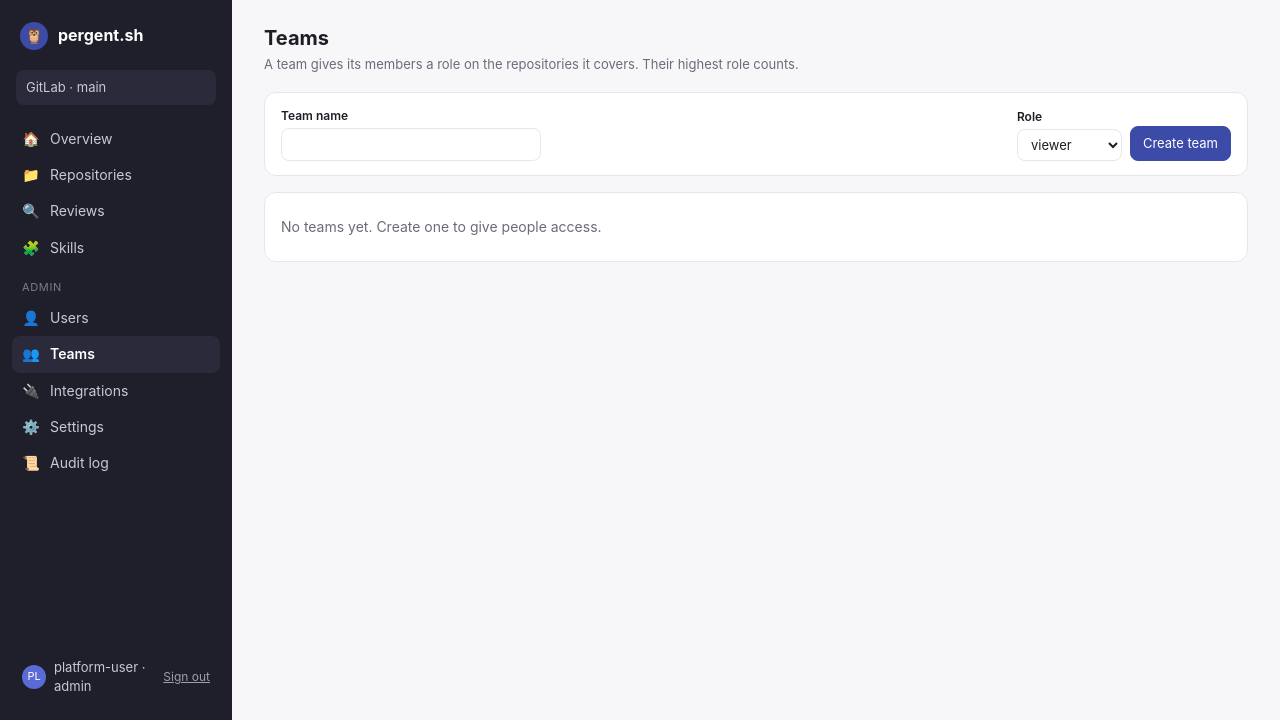
Scenario: Teams › shows the server's text when the name is taken
This screenshot has width=1280, height=720.
In the field labelled "Team name": (411, 145) [281,128,541,161], type "Payments"
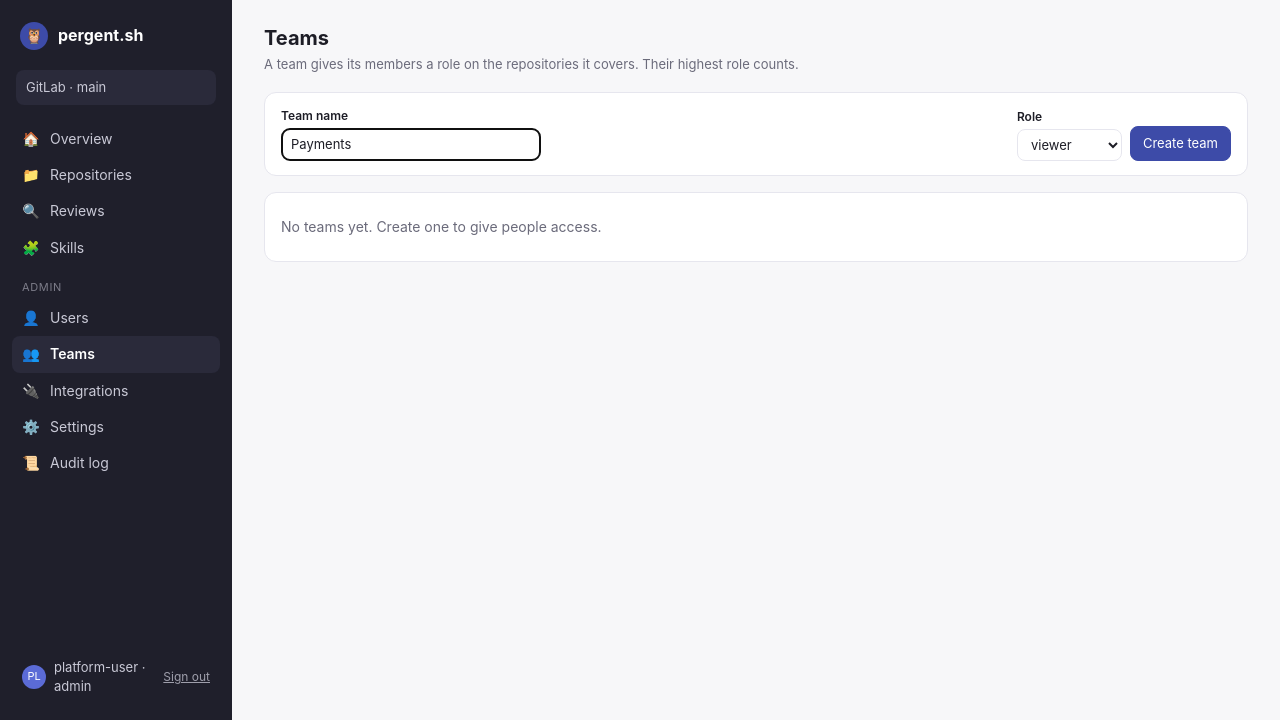
Click the button "Create team": (1180, 144) [1130,126,1231,161]
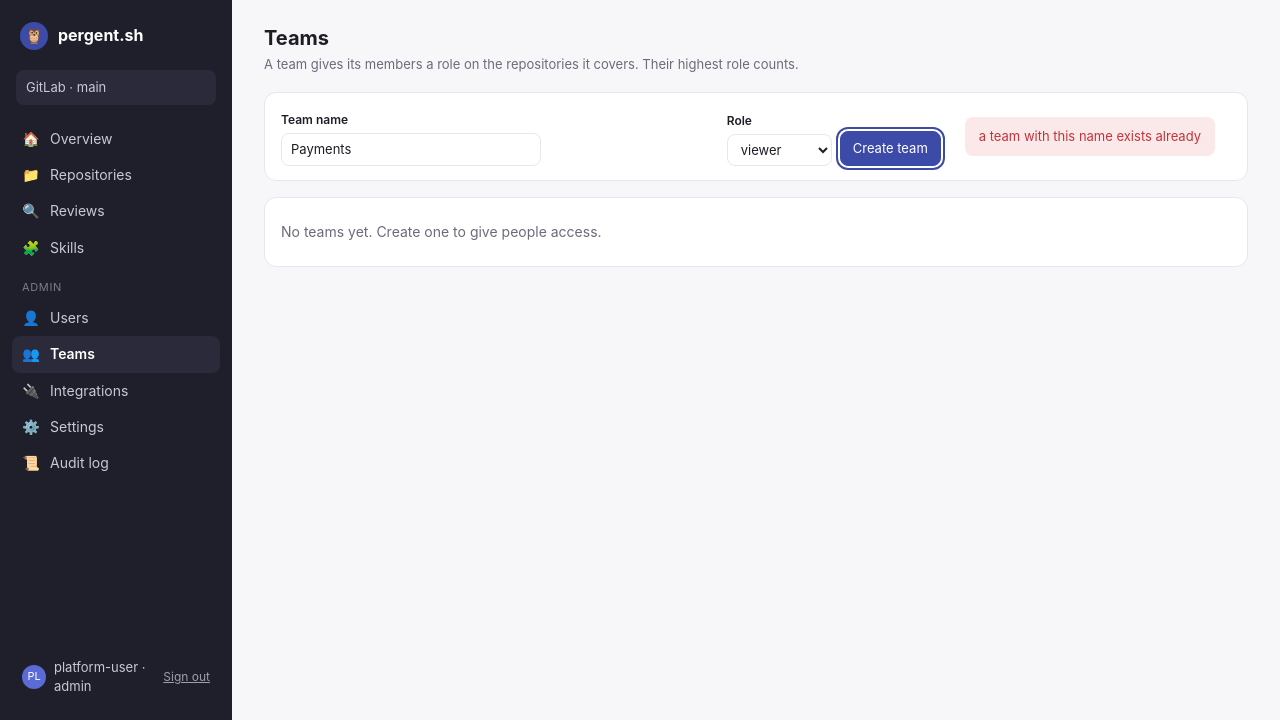
Result: the message reads "a team with this name exists already" at [979,128,1201,144]
